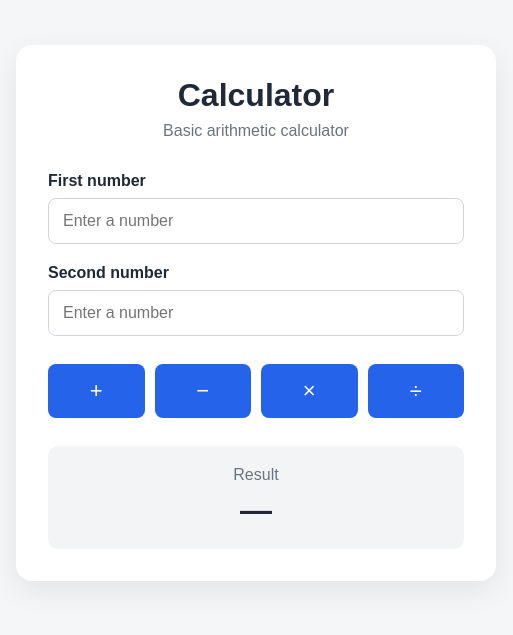
Test case: Calculator › shows an error when the fields are empty
Click the button "+": click(96, 391) [48,364,144,418]
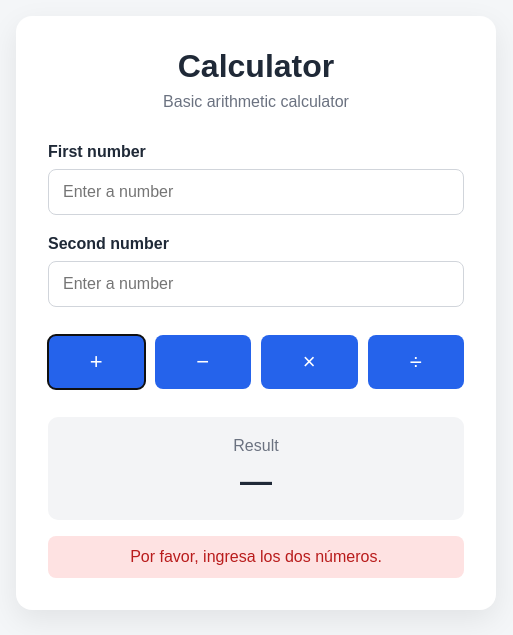
Check: the text "Por favor, ingresa los dos números." is shown, box [48,536,464,578]
